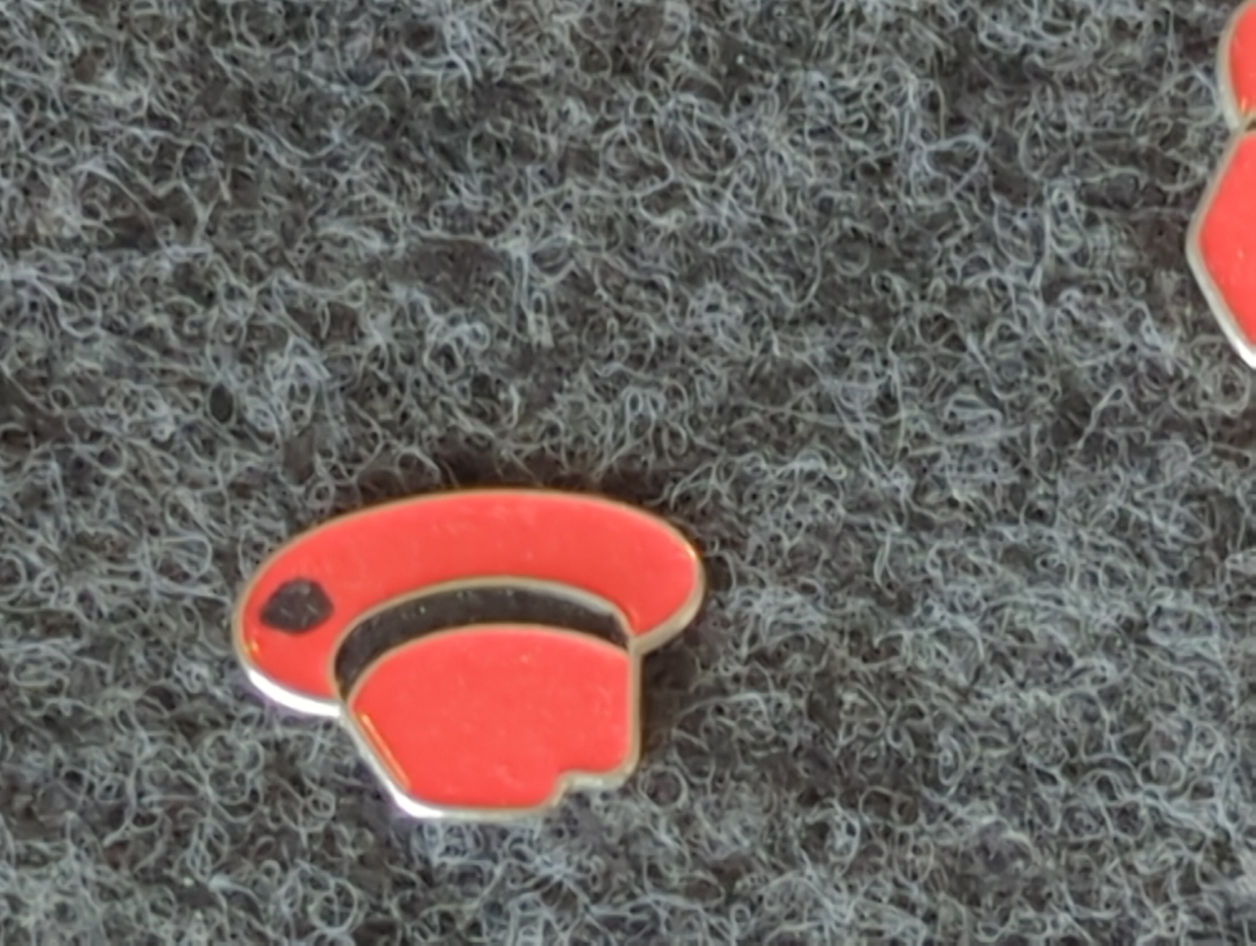Red-Hat: (90, 372, 884, 922)
Scratch: (222, 530, 389, 668)
